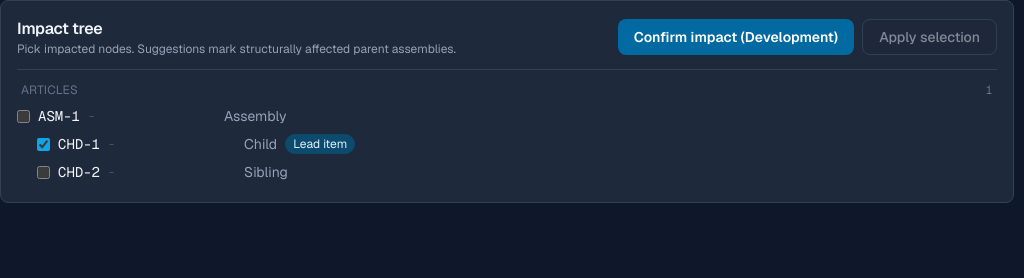
ImpactTree, spec §16 › marks a pending selection, names it, and discards it
Expected: the text "Child" is shown, [244, 134, 277, 154]
Click the checkbox named "Sibling" at (44, 172), box [37, 166, 50, 178]
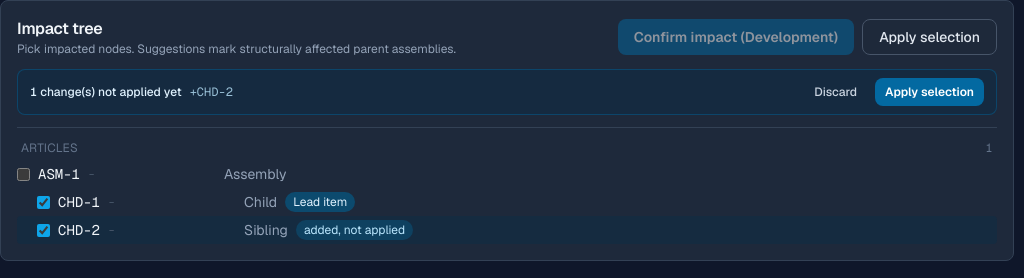
Expected: the element with test id "impact-pending-bar" shows "+CHD-2", [190, 84, 233, 100]
Click the button with test id "impact-discard" at (836, 92), box [804, 78, 867, 106]
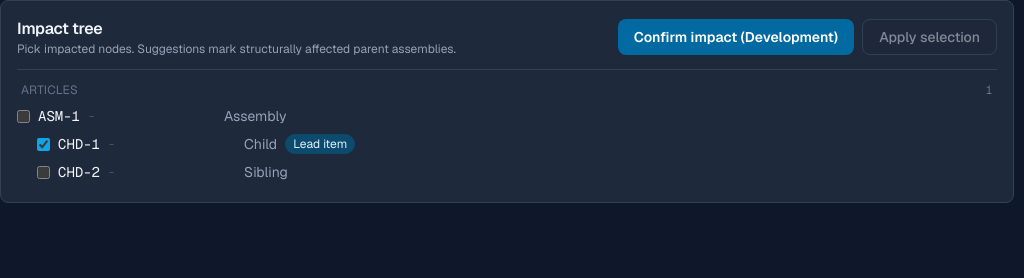
Expected: the checkbox named "Sibling" is not checked, [37, 166, 50, 178]
Expected: the element with test id "impact-pending-bar" is gone
